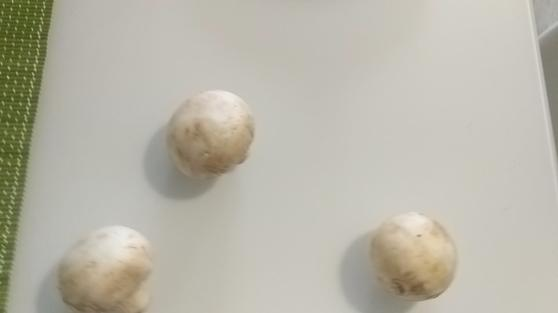champignon: (57, 222, 159, 313), (165, 84, 257, 176), (374, 208, 461, 299)
